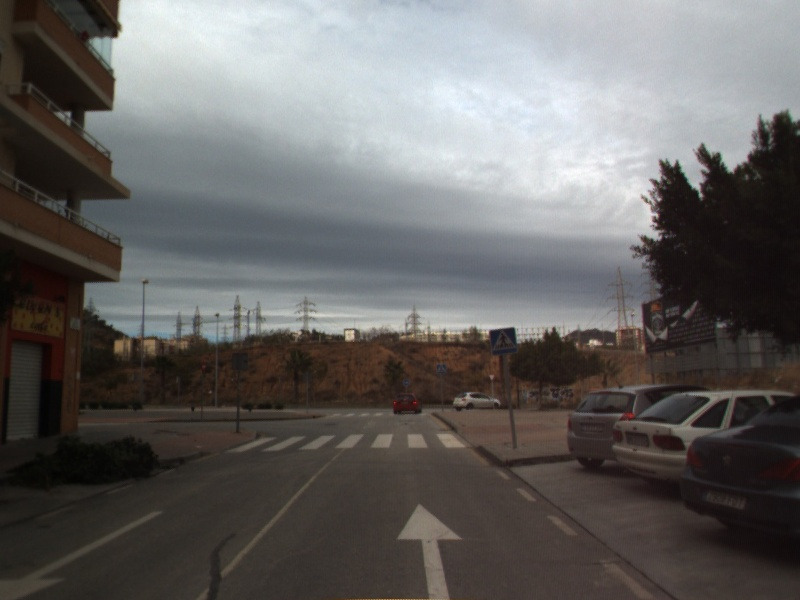STRAIGHT: (394, 501, 466, 600)
